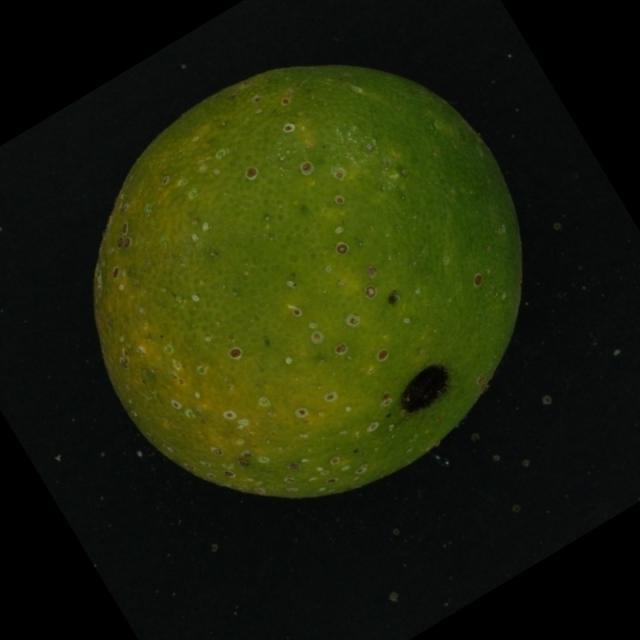grenning: (48, 44, 560, 515)
